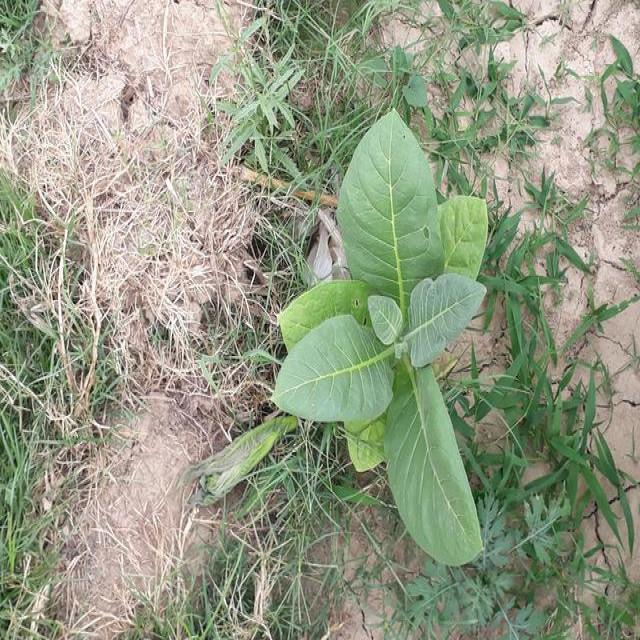crop: (270, 108, 490, 567)
